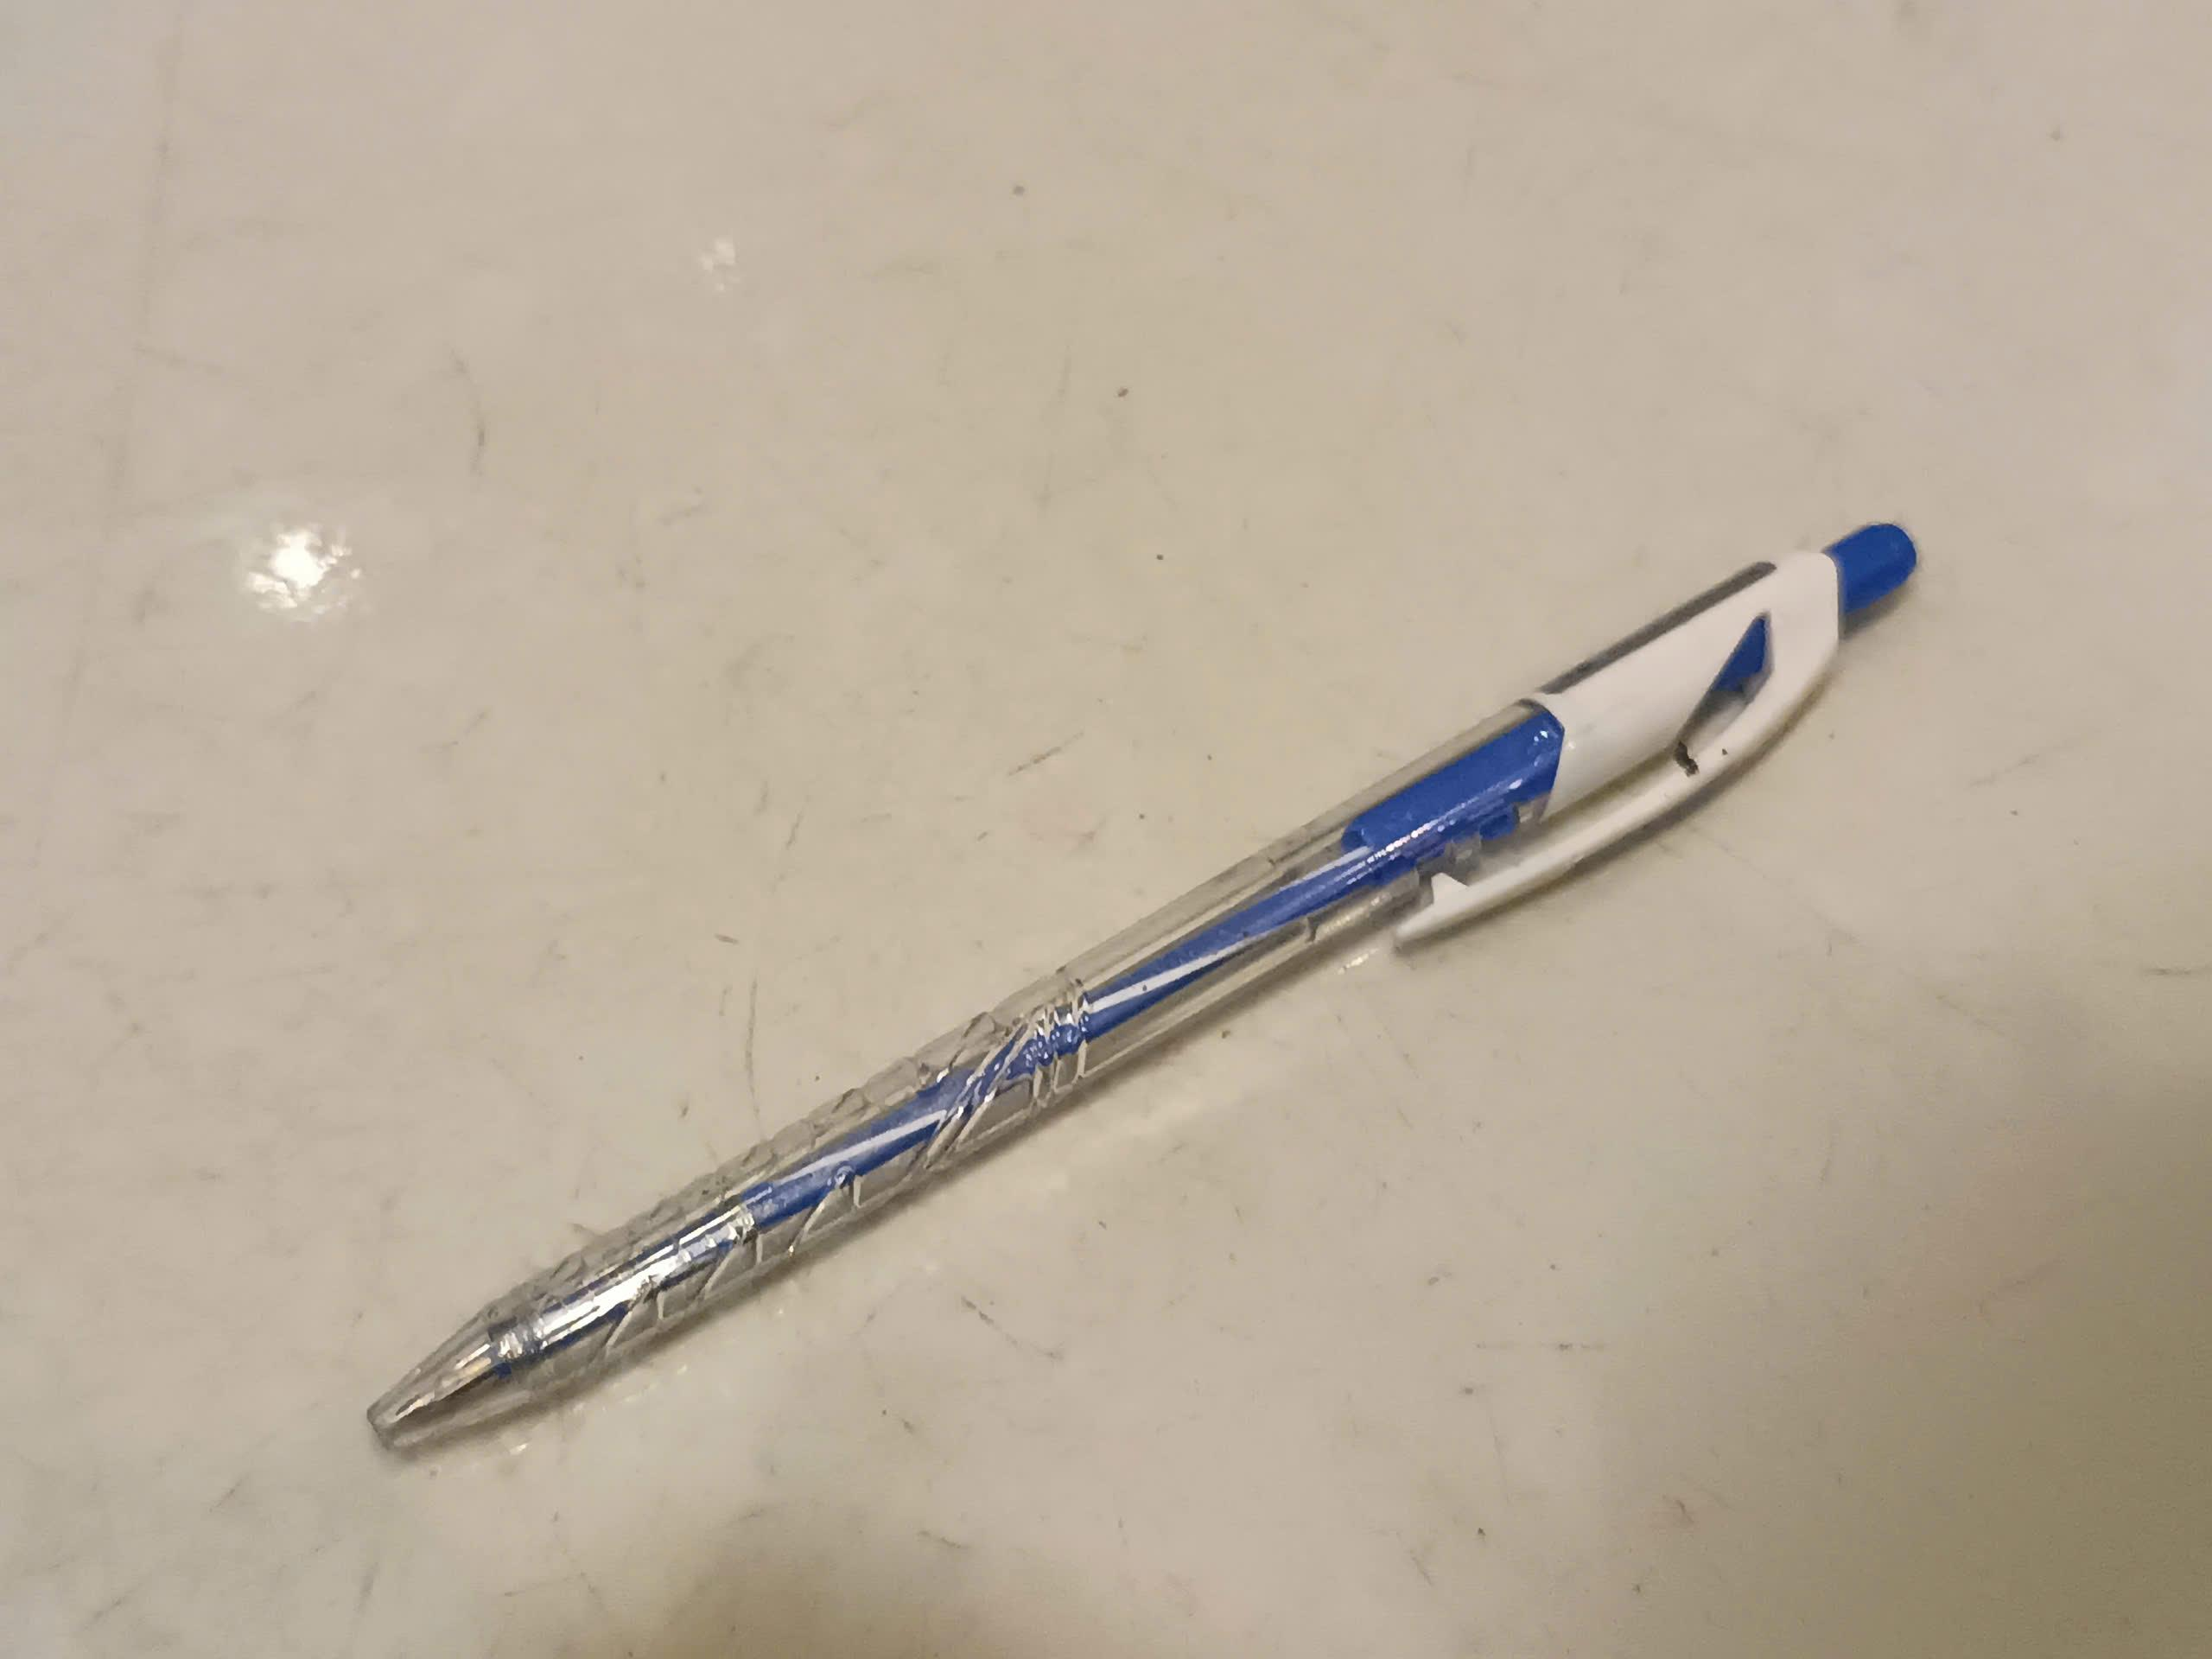Con lai: (362, 516, 1919, 1443)
